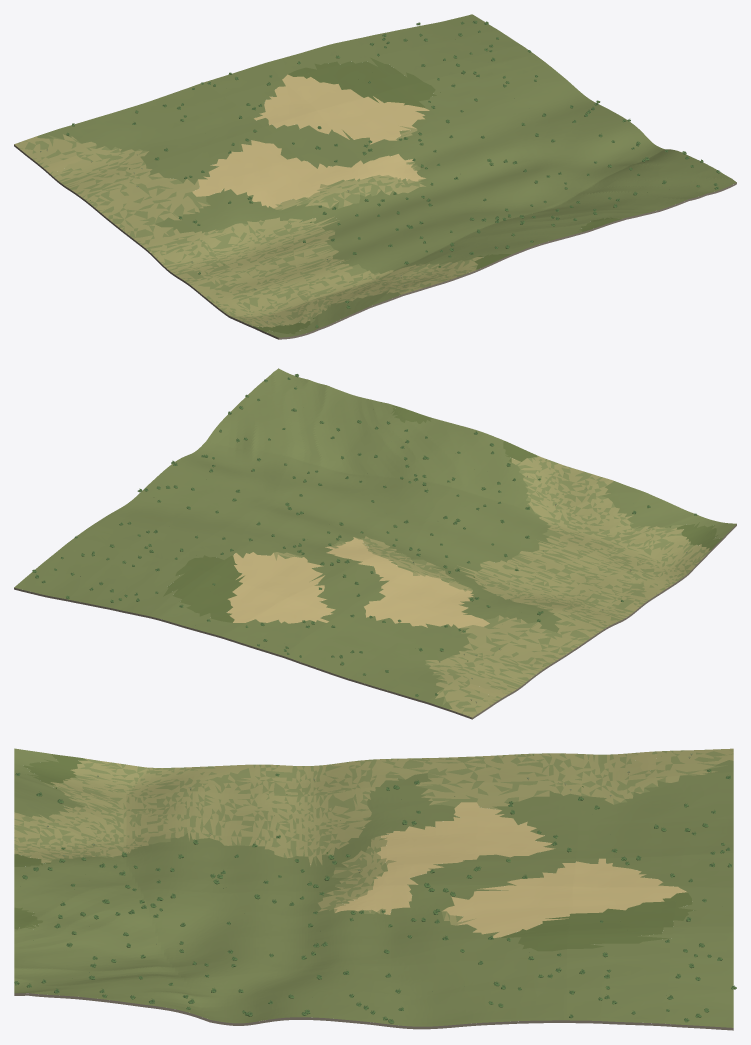
The model's file is parca_+3_-4-yakin.glb.
3 renders of one model, top to bottom at view 1: azimuth 30°, elevation 25°; view 2: azimuth 150°, elevation 25°; view 3: azimuth 270°, elevation 25°, orthographic. The views are drawn at different scales.
Parts seen in each view (by area): view 1: parca_+3_-4_arazi, parca_+3_-4_bitkiler; view 2: parca_+3_-4_arazi, parca_+3_-4_bitkiler; view 3: parca_+3_-4_arazi, parca_+3_-4_bitkiler.
Part boxes in pixels (left/top/right/bottom): parca_+3_-4_arazi: left=14, top=14, right=736, bottom=339; parca_+3_-4_bitkiler: left=40, top=21, right=720, bottom=327; parca_+3_-4_arazi: left=14, top=368, right=736, bottom=719; parca_+3_-4_bitkiler: left=32, top=374, right=697, bottom=703; parca_+3_-4_arazi: left=14, top=748, right=733, bottom=1030; parca_+3_-4_bitkiler: left=14, top=753, right=736, bottom=1023.
Size of the model in its own units: 1004 by 129 by 1005.
